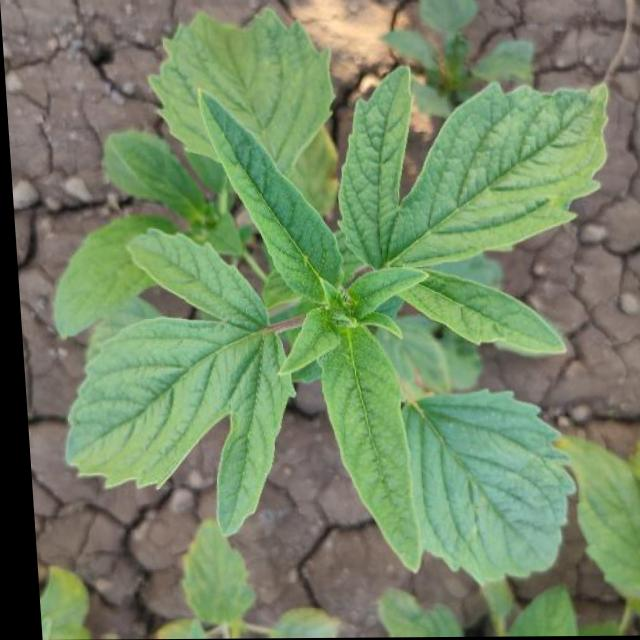crop: (22, 9, 638, 588)
